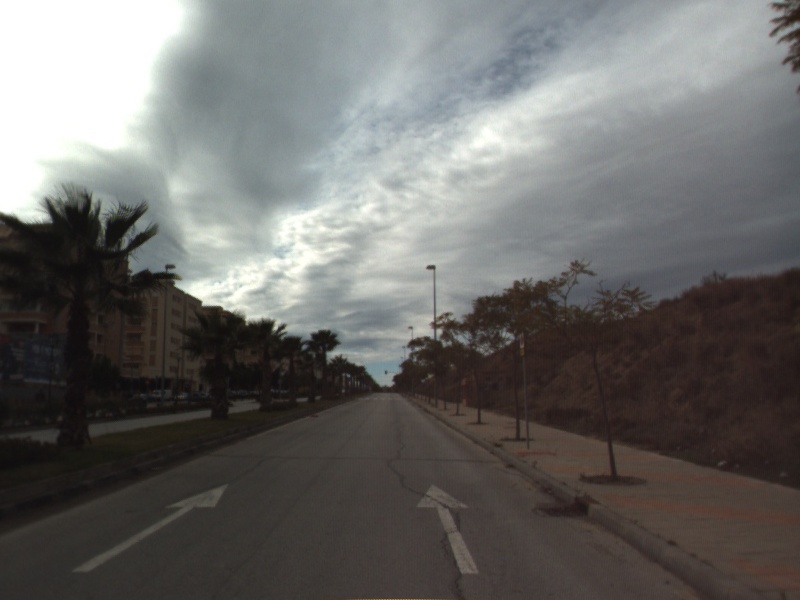STRAIGHT: (70, 482, 231, 575), (413, 481, 482, 576)
